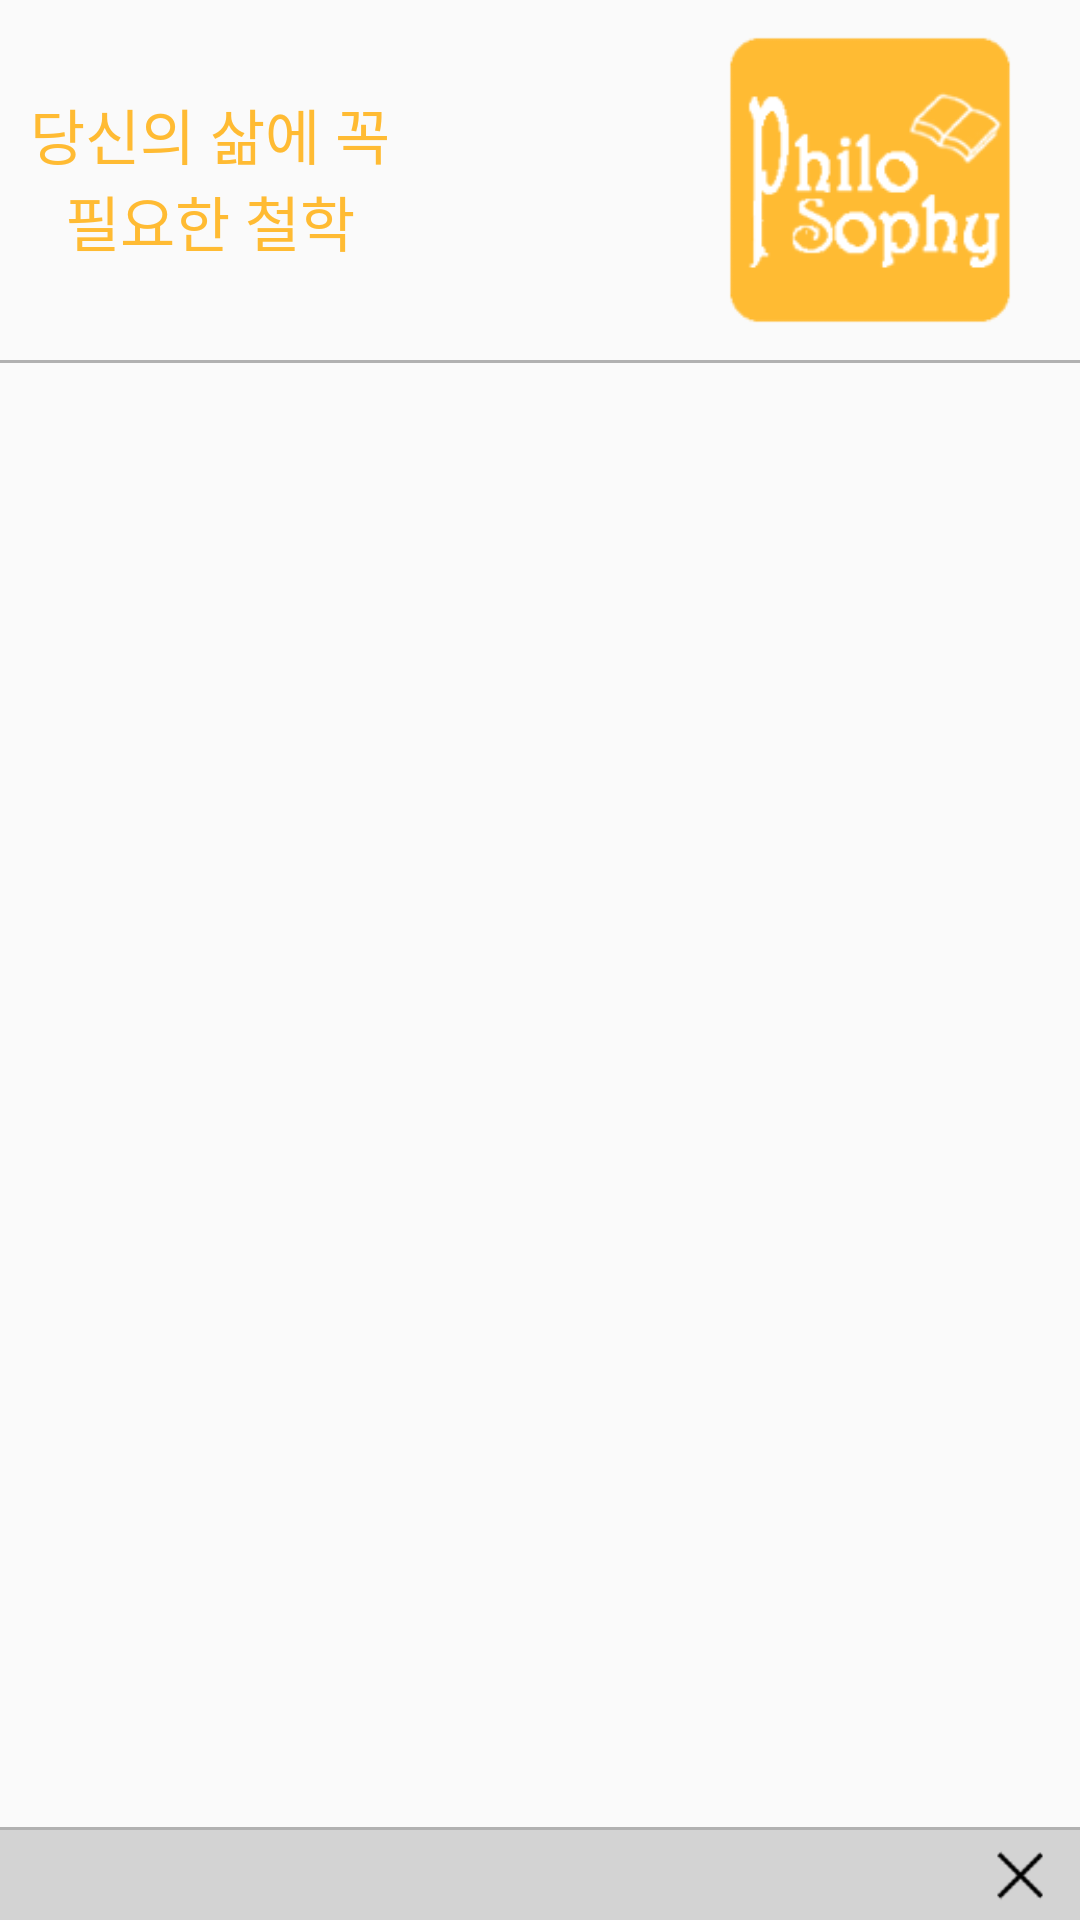

Locate icon controls on the screen. Image size 1080w x 1920h, boxes as box(x1, y1, x2, y2).
exit states: box(997, 1852, 1043, 1899)
